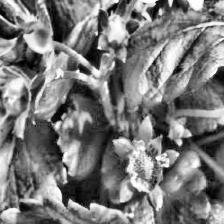Blossom Blight: (125, 142, 170, 192)
